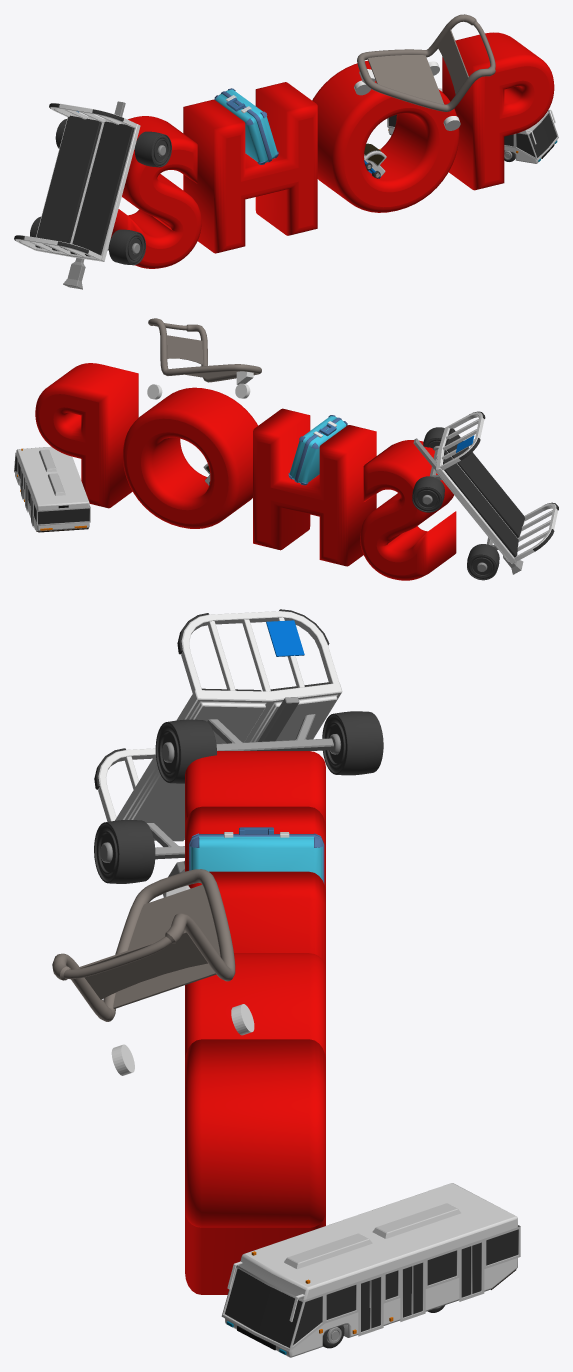
File: shop.fbx
3 views of the same model, one above another, from view 1: azimuth 30°, elevation 25°; view 2: azimuth 150°, elevation 25°; view 3: azimuth 270°, elevation 25° (orthographic). The views are drawn at different scales.
Visible parts, largest first — view 1: Text.001, Cube.074, BézierCurve.003, Plane.012, Cube.079, Cube.075, Cube.086, Cylinder.067, Cylinder.066, Plane.013, Cube.078, Cube.082 (+1 smaller); view 2: Text.001, Cube.074, Cube.085, Cube.075, BézierCurve.003, Cube.079, Cube.086, Cylinder.067, Cylinder.066, Plane.013, Cube.087, Cube.078; view 3: Text.001, Cube.085, Cube.086, Cube.074, BézierCurve.003, Cylinder.067, Cube.075, Cube.079, Plane.012, Cylinder.066, Plane.013, Cube.077 (+3 smaller).
Part boxes in pixels (left/top/right/bottom): Text.001: left=111, top=32, right=554, bottom=268; Cube.074: left=34, top=114, right=140, bottom=261; BézierCurve.003: left=357, top=14, right=495, bottom=111; Plane.012: left=367, top=55, right=443, bottom=104; Cube.079: left=214, top=88, right=278, bottom=164; Cube.075: left=14, top=103, right=136, bottom=260; Cube.086: left=387, top=110, right=558, bottom=160; Cylinder.067: left=55, top=119, right=171, bottom=167; Cylinder.066: left=30, top=216, right=145, bottom=265; Plane.013: left=437, top=29, right=468, bottom=94; Cube.078: left=63, top=101, right=125, bottom=289; Cube.082: left=364, top=143, right=386, bottom=176; Text.001: left=35, top=363, right=456, bottom=580; Cube.074: left=435, top=425, right=524, bottom=563; Cube.085: left=15, top=446, right=89, bottom=532; Cube.075: left=440, top=411, right=558, bottom=561; BézierCurve.003: left=148, top=318, right=261, bottom=382; Cube.079: left=288, top=415, right=347, bottom=485; Cube.086: left=14, top=452, right=90, bottom=527; Cylinder.067: left=412, top=427, right=444, bottom=512; Cylinder.066: left=467, top=544, right=499, bottom=580; Plane.013: left=167, top=335, right=203, bottom=364; Cube.087: left=39, top=449, right=65, bottom=495; Cube.078: left=413, top=438, right=523, bottom=574; Text.001: left=185, top=751, right=325, bottom=1294; Cube.085: left=225, top=1183, right=517, bottom=1357; Cube.086: left=221, top=1225, right=520, bottom=1351; Cube.074: left=115, top=682, right=342, bottom=841; BézierCurve.003: left=52, top=869, right=235, bottom=1021; Cylinder.067: left=155, top=711, right=383, bottom=783; Cube.075: left=94, top=609, right=339, bottom=821; Cube.079: left=189, top=833, right=324, bottom=883; Plane.012: left=113, top=885, right=220, bottom=1008; Cylinder.066: left=94, top=820, right=155, bottom=883; Plane.013: left=78, top=931, right=207, bottom=999; Cube.077: left=147, top=714, right=333, bottom=859.
Bounding box in the file's own units: 373 × 117 × 146.
